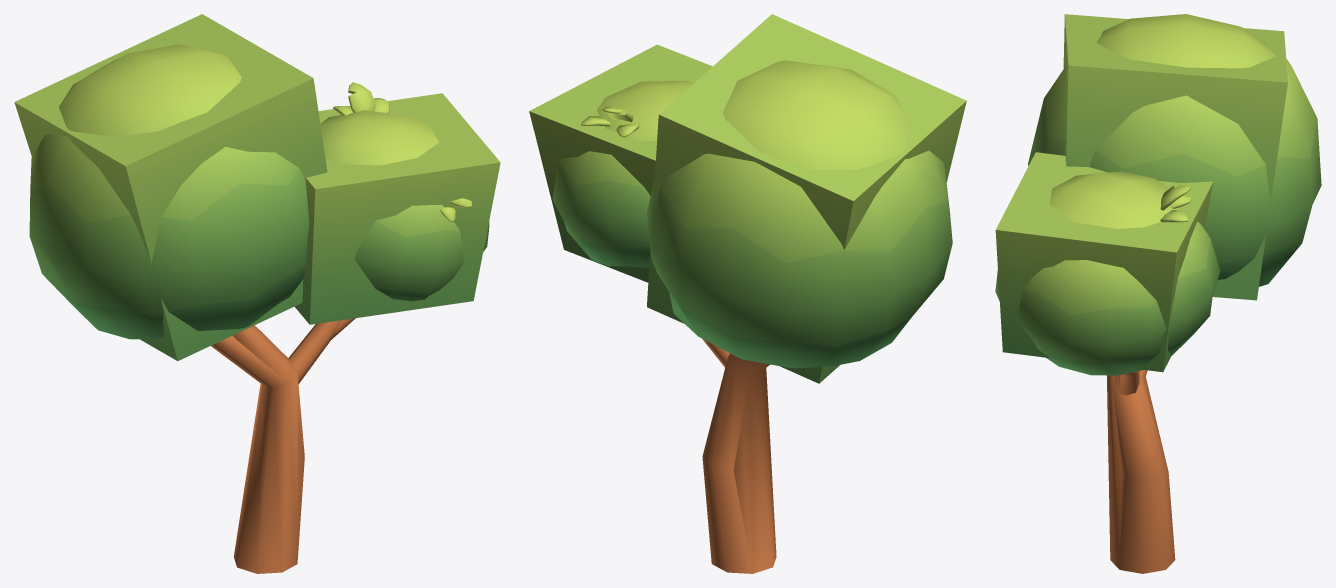
Rendered from tree 01.fbx.
The picture shows the model from 3 angles, left to right: view 1: azimuth 30°, elevation 25°; view 2: azimuth 150°, elevation 25°; view 3: azimuth 270°, elevation 25°; orthographic projection. The views are drawn at different scales.
Parts seen in each view (by area): view 1: tree 01, tree 01 low; view 2: tree 01, tree 01 low; view 3: tree 01, tree 01 low.
Part boxes in pixels (<box>): tree 01: <box>29,44,489,559</box>; tree 01 low: <box>14,14,500,573</box>; tree 01: <box>552,60,952,573</box>; tree 01 low: <box>529,14,966,573</box>; tree 01: <box>995,14,1321,573</box>; tree 01 low: <box>995,14,1287,569</box>.
Size of the model in its own units: 342 by 421 by 249.
Materials: 1 (1 with a texture image).
